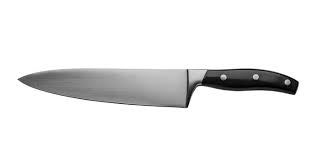knife: (16, 67, 300, 109)
